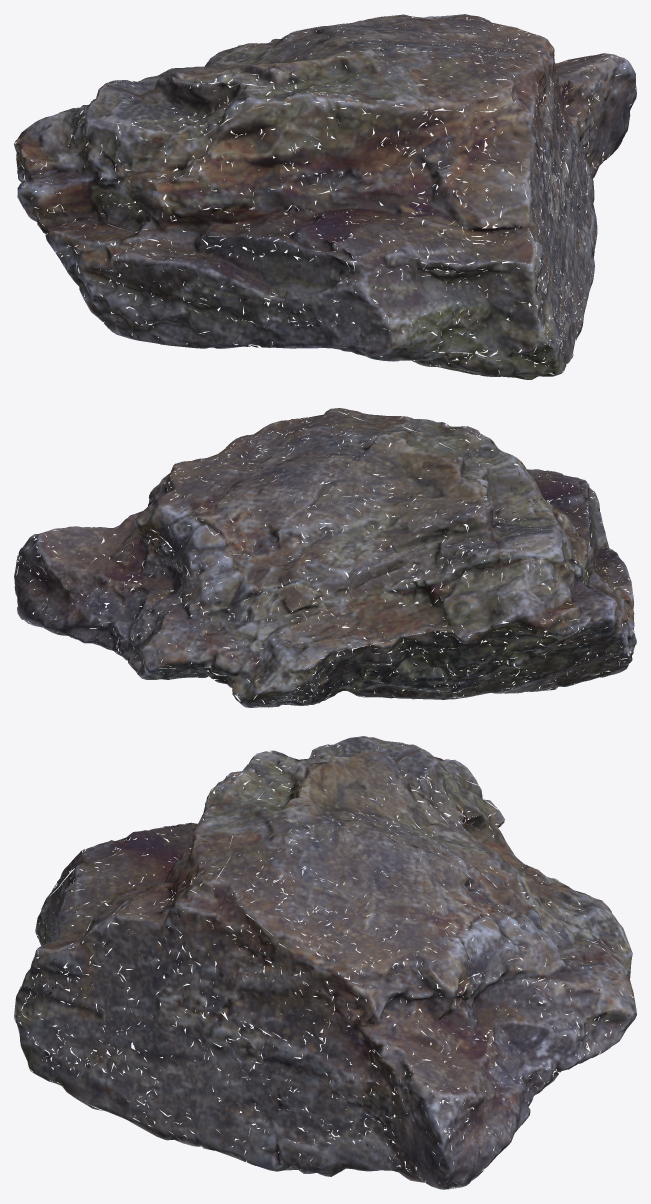
The model's file is rock.glb.
3 views of the same model, one above another, from view 1: azimuth 30°, elevation 25°; view 2: azimuth 150°, elevation 25°; view 3: azimuth 270°, elevation 25° (orthographic). The views are drawn at different scales.
Parts seen in each view (by area): view 1: Object_4, Object_3, Object_5, Object_9, Object_2, Object_6, Object_8, Object_10, Object_7, Object_11; view 2: Object_7, Object_6, Object_11, Object_10, Object_8, Object_5, Object_4, Object_3, Object_9, Object_2; view 3: Object_7, Object_10, Object_2, Object_5, Object_11, Object_6, Object_8, Object_9, Object_4, Object_3.
Part boxes in pixels (<box>): Object_4: <box>15,108,585,378</box>; Object_3: <box>14,81,580,379</box>; Object_5: <box>14,77,603,312</box>; Object_9: <box>17,71,595,355</box>; Object_2: <box>18,28,631,371</box>; Object_6: <box>133,30,586,250</box>; Object_8: <box>22,14,573,379</box>; Object_10: <box>148,26,636,260</box>; Object_7: <box>139,15,636,357</box>; Object_11: <box>198,15,619,305</box>; Object_7: <box>14,422,397,705</box>; Object_6: <box>175,410,506,707</box>; Object_11: <box>31,426,369,683</box>; Object_10: <box>14,408,483,707</box>; Object_8: <box>97,469,636,698</box>; Object_5: <box>282,408,577,701</box>; Object_4: <box>373,444,633,693</box>; Object_3: <box>271,431,635,700</box>; Object_9: <box>341,434,594,699</box>; Object_2: <box>17,409,619,679</box>; Object_7: <box>229,805,636,1189</box>; Object_10: <box>177,755,630,1189</box>; Object_2: <box>14,744,533,1189</box>; Object_5: <box>38,736,504,1176</box>; Object_11: <box>60,817,636,1143</box>; Object_6: <box>135,749,629,1176</box>; Object_8: <box>14,814,595,1139</box>; Object_9: <box>32,737,504,1171</box>; Object_4: <box>17,758,478,1145</box>; Object_3: <box>15,739,602,1125</box>.
Bounding box in the file's own units: 0.227 × 0.0907 × 0.1921.
1 material, 1 textured.
